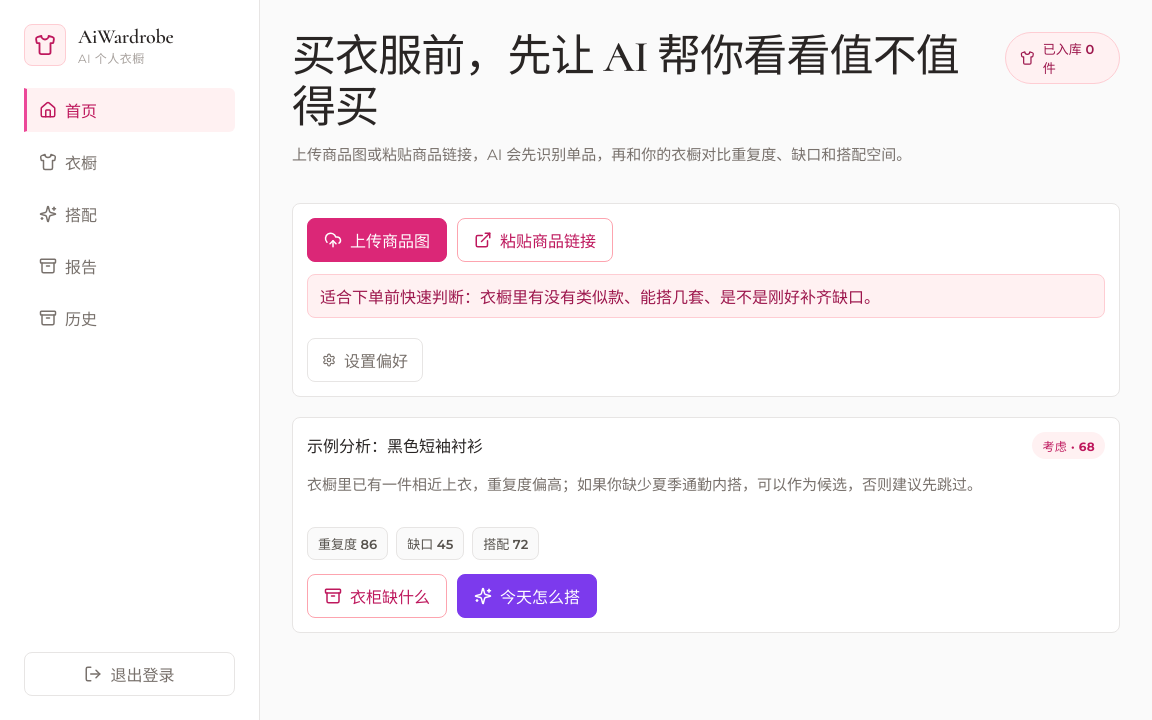
Test: AiWardrobe app › home product image CTA opens purchase analysis with upload immediately available
expect the heading "买衣服前，先让 AI 帮你看看值不值得买" is shown: met, box [292,32,987,133]
Click the button "上传商品图": (377, 240) [307,218,447,262]
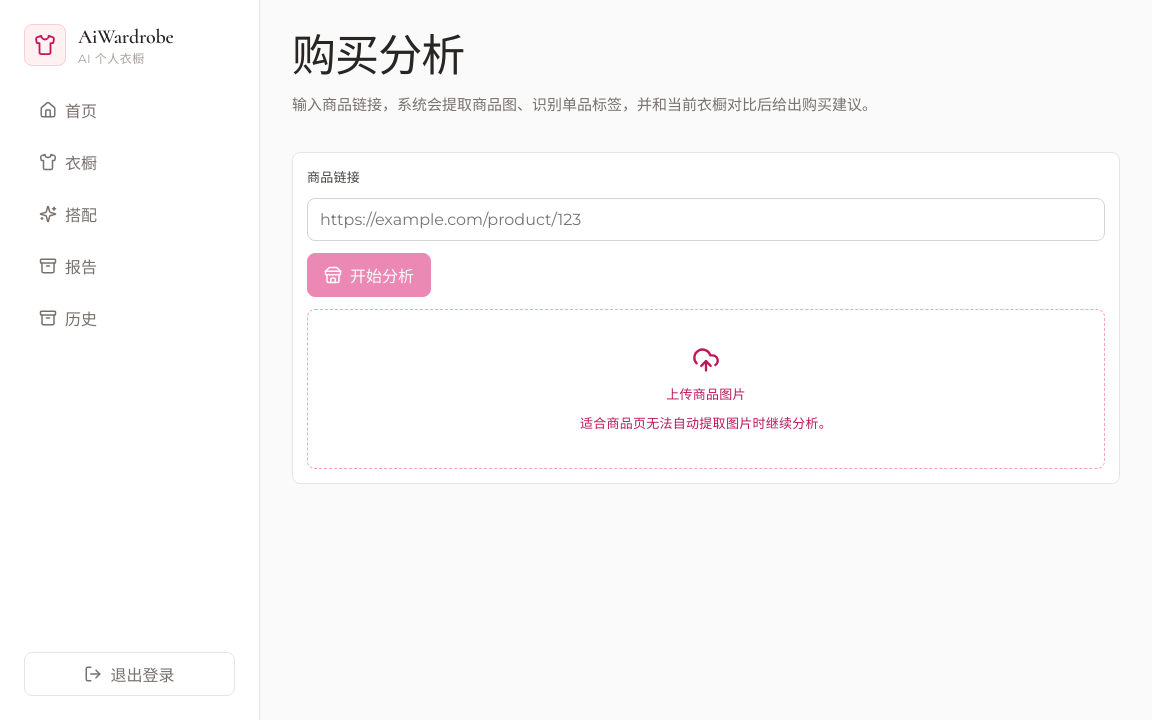
expect the file field labelled "上传商品图片" is shown: met, box [307,309,1105,469]
expect the field labelled "商品链接" is shown: met, box [307,198,1105,241]
